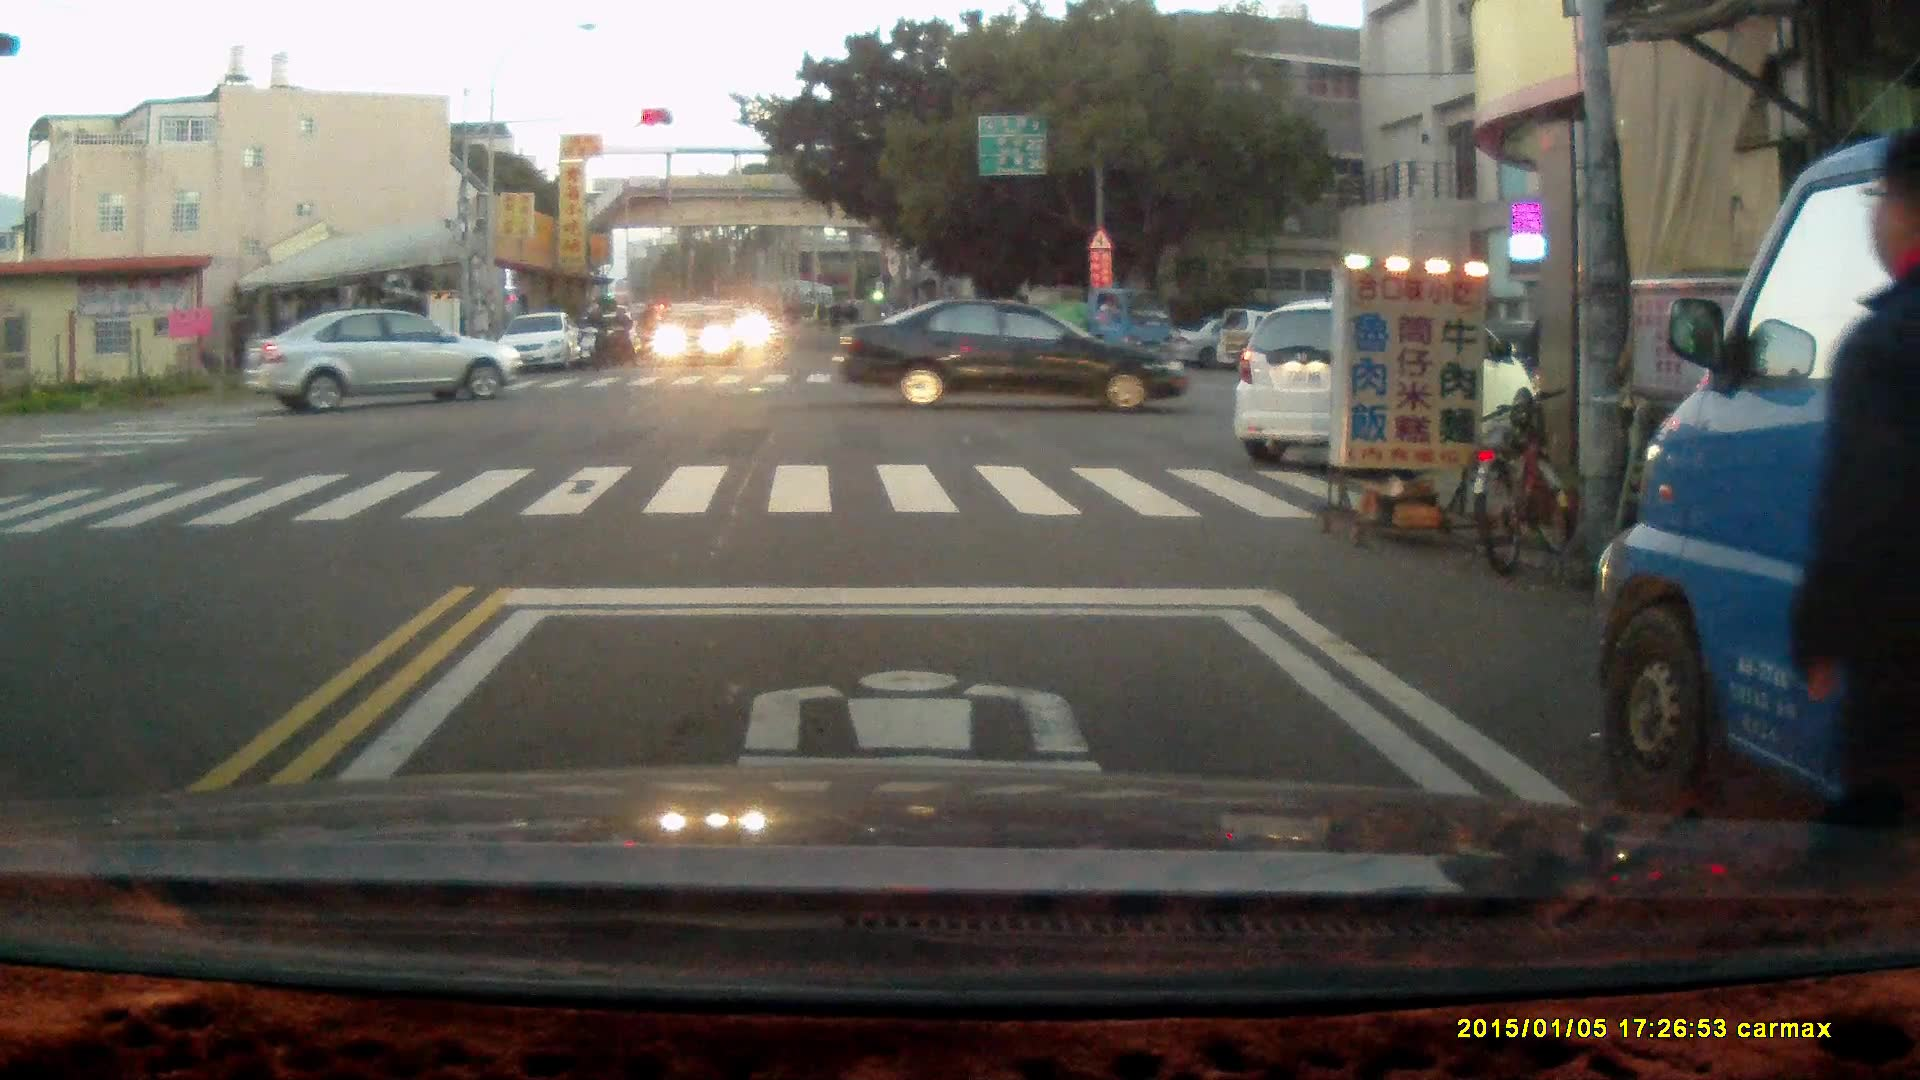pedestrian: (1788, 125, 1920, 829)
rider: (576, 301, 608, 367), (603, 301, 632, 365)
vehicle: (1598, 132, 1920, 844), (1233, 296, 1533, 459), (836, 297, 1198, 412), (244, 309, 520, 411), (1002, 284, 1179, 367), (496, 313, 586, 377)
